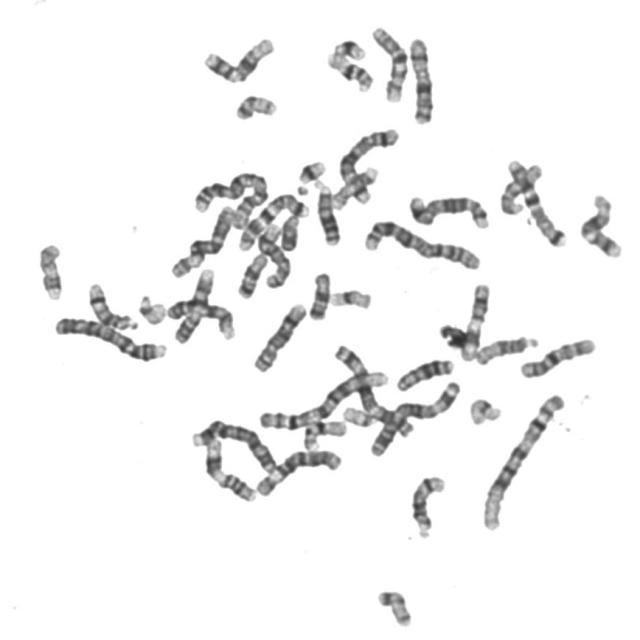A1: (477, 388, 569, 534), (254, 365, 392, 433)
A2: (359, 214, 485, 272), (190, 165, 273, 228)
A3: (330, 339, 418, 439), (365, 375, 463, 458)
B4: (50, 311, 170, 363), (187, 414, 282, 476)
B5: (330, 122, 403, 212), (405, 190, 492, 230)
C10: (516, 332, 600, 380), (368, 20, 412, 104)
C11: (200, 432, 260, 504), (460, 278, 493, 361)
C12: (200, 31, 278, 86), (576, 188, 626, 260)
C6: (167, 200, 238, 280), (252, 444, 345, 499)
C7: (504, 154, 570, 249), (234, 188, 312, 252)
C8: (250, 297, 310, 374), (255, 220, 294, 290)
C9: (170, 263, 218, 346), (164, 294, 239, 342)
D13: (393, 354, 457, 394), (311, 175, 344, 247)
D14: (84, 277, 140, 332), (407, 470, 449, 540)
D15: (496, 158, 546, 216), (472, 330, 542, 367)
E16: (322, 47, 377, 93), (300, 416, 350, 452)
E17: (328, 160, 381, 211), (34, 237, 66, 302)
E18: (233, 248, 271, 300), (305, 267, 333, 322)
F19: (465, 393, 505, 427), (326, 284, 374, 311)
F20: (372, 585, 416, 629), (231, 89, 281, 122)
G21: (329, 33, 369, 62), (294, 156, 328, 186)
G22: (340, 401, 380, 429), (134, 294, 170, 324)
X: (405, 32, 437, 126)
Y: (276, 210, 302, 252)
